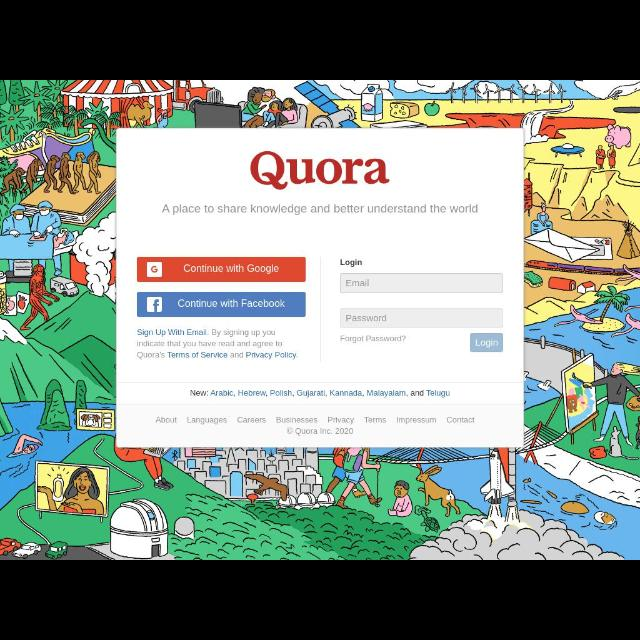backgroundimage: (1, 81, 639, 558)
icon: (145, 260, 163, 278), (146, 296, 164, 312)
image: (250, 147, 390, 190)
input: (340, 274, 504, 294), (341, 308, 504, 328)
text: (155, 416, 477, 436), (136, 328, 300, 360), (162, 202, 478, 214), (190, 388, 450, 398), (182, 262, 280, 274), (177, 299, 285, 309), (345, 314, 387, 324), (340, 336, 406, 342), (474, 337, 500, 349), (339, 258, 363, 268), (344, 279, 370, 287)
textbutton: (136, 256, 306, 282), (136, 292, 306, 318), (470, 332, 504, 352)
